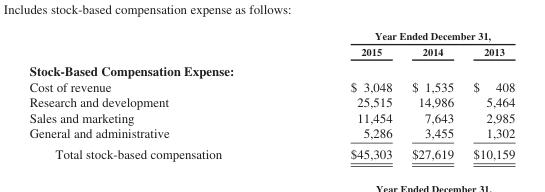table: (28, 29, 514, 160)
table column: (28, 29, 285, 160), (285, 29, 401, 160), (401, 29, 462, 160), (462, 29, 514, 160)
table column header: (28, 29, 514, 60)
table projected row header: (28, 60, 514, 78)
table row: (28, 60, 514, 78), (28, 125, 514, 143), (28, 43, 514, 60), (28, 143, 514, 160), (28, 78, 514, 94), (28, 109, 514, 125), (28, 94, 514, 109), (28, 29, 514, 43)
table spanning cell: (285, 29, 514, 43)
